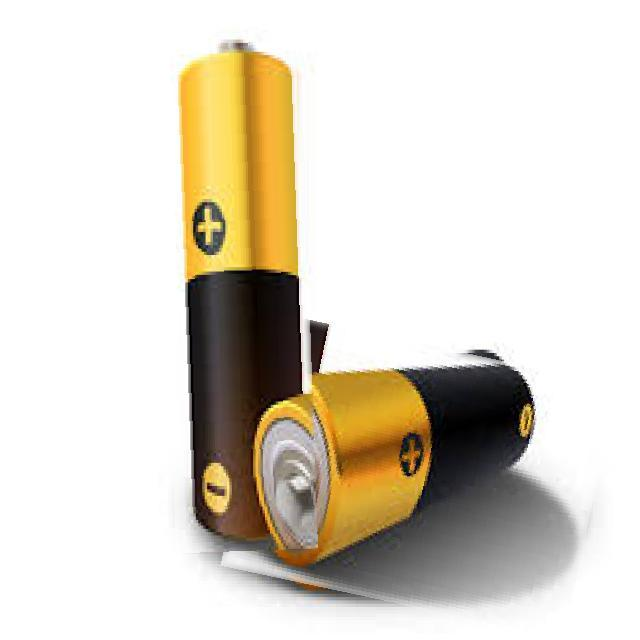Battery: (166, 38, 322, 550), (250, 356, 546, 581)
